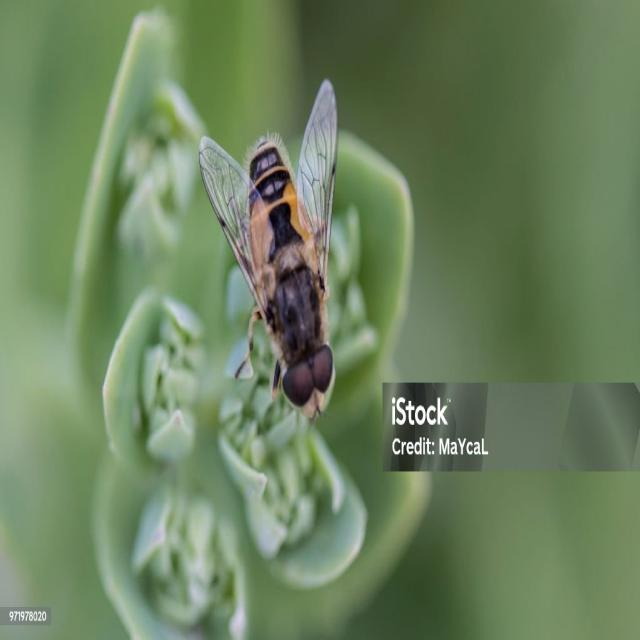hoverfly: (197, 76, 341, 442)
